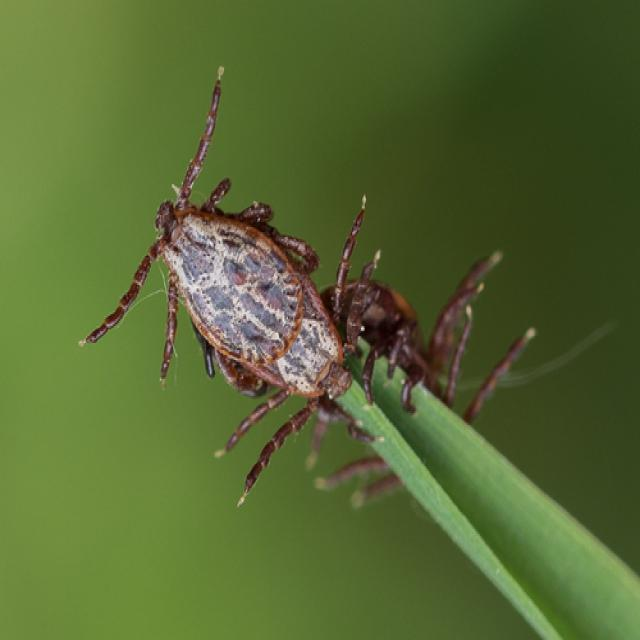Dermacentor Reticulatus-M: (84, 114, 319, 387)
